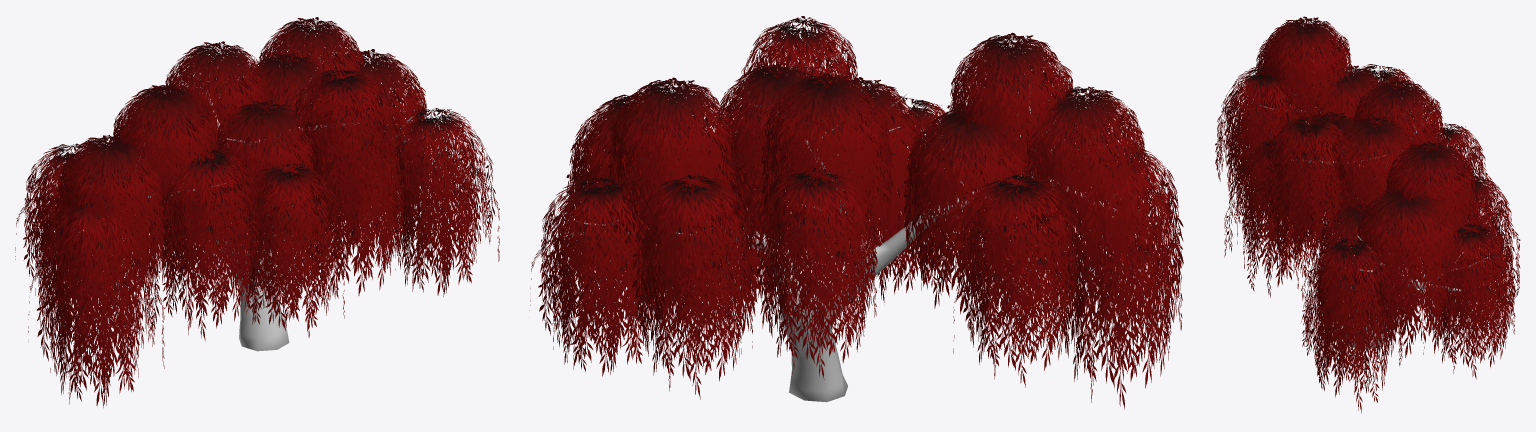
The model's file is SM_Nature_Tree_04.fbx.
The picture shows the model from 3 angles, left to right: view 1: azimuth 30°, elevation 25°; view 2: azimuth 150°, elevation 25°; view 3: azimuth 270°, elevation 25°; orthographic projection. The views are drawn at different scales.
Visible parts, largest first — view 1: Tree_04_LOD0; view 2: Tree_04_LOD0; view 3: Tree_04_LOD0.
Boxes of the visible parts, x1=… form: Tree_04_LOD0: x1=15, y1=17, x2=499, y2=407; Tree_04_LOD0: x1=529, y1=16, x2=1183, y2=409; Tree_04_LOD0: x1=1215, y1=16, x2=1520, y2=413.
Bounding box in the file's own units: 978 × 596 × 626.
